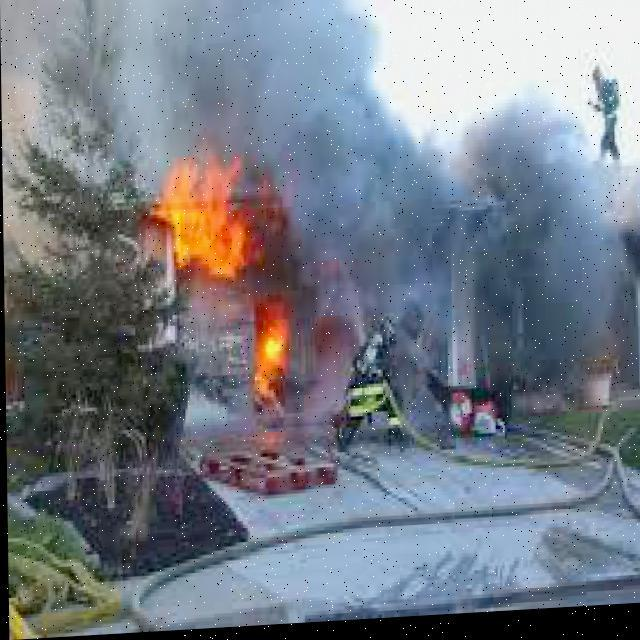Fire: (144, 138, 274, 298), (232, 293, 315, 430)
